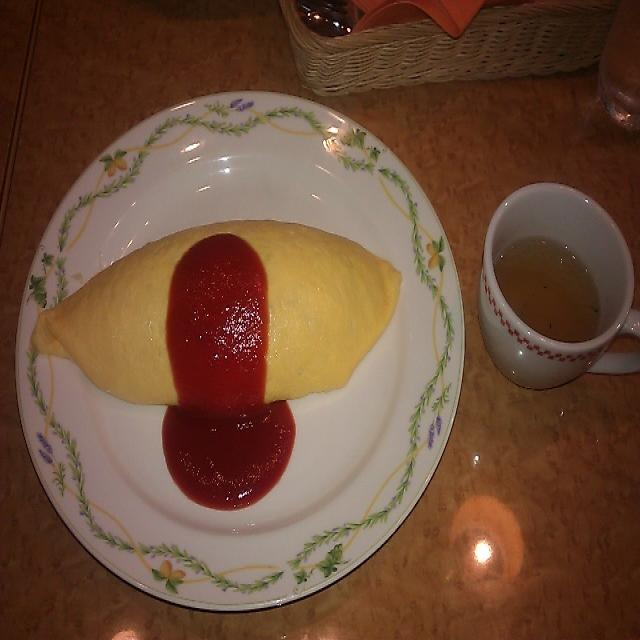汤锅炖物: (480, 172, 637, 396)
